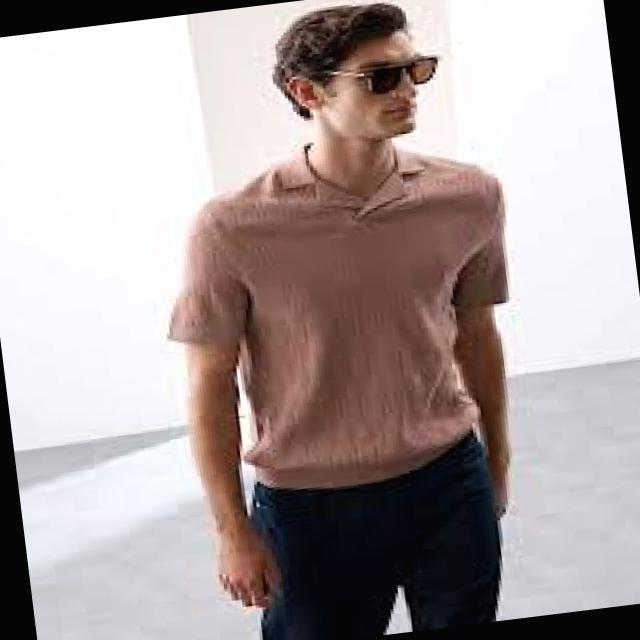face: (310, 71, 419, 140)
lower-wear: (251, 431, 503, 639)
top-wear: (167, 144, 509, 489)
